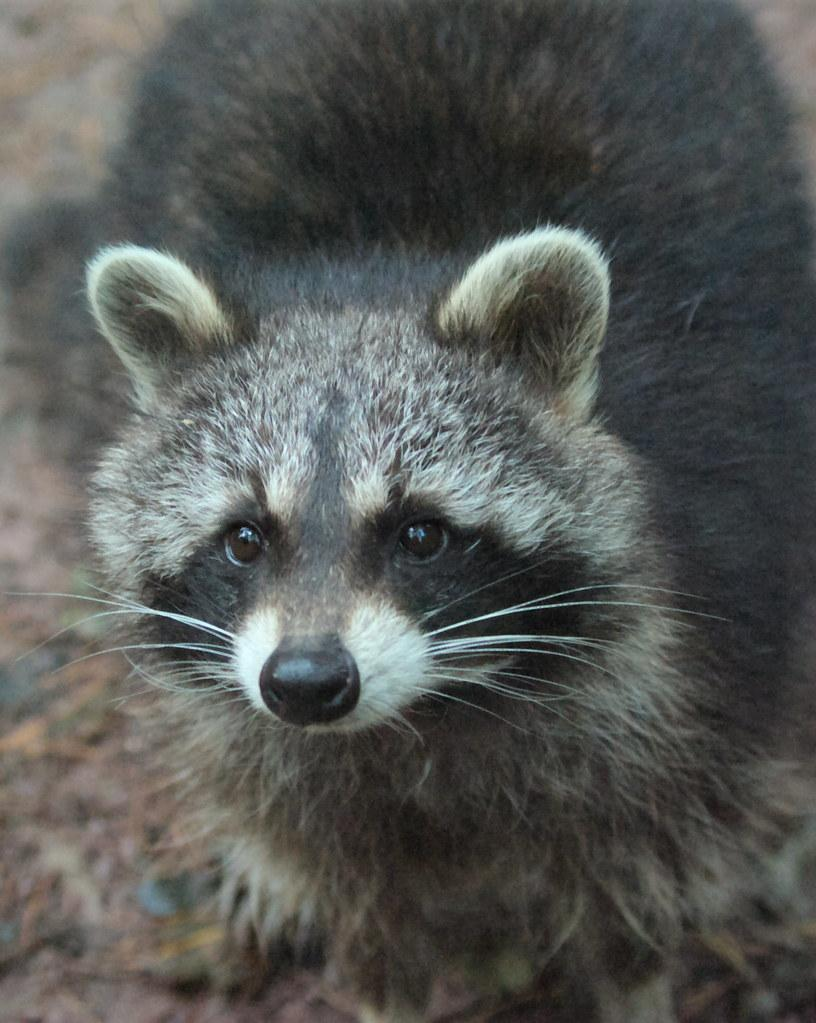raccoon: (82, 0, 816, 981)
